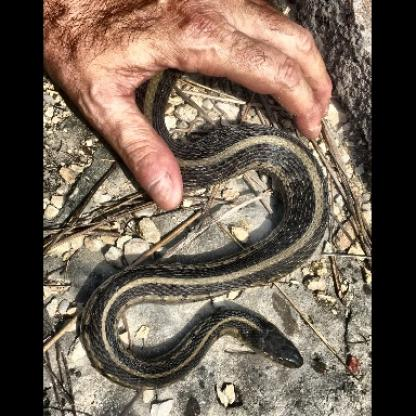Snake: (82, 64, 358, 390)
